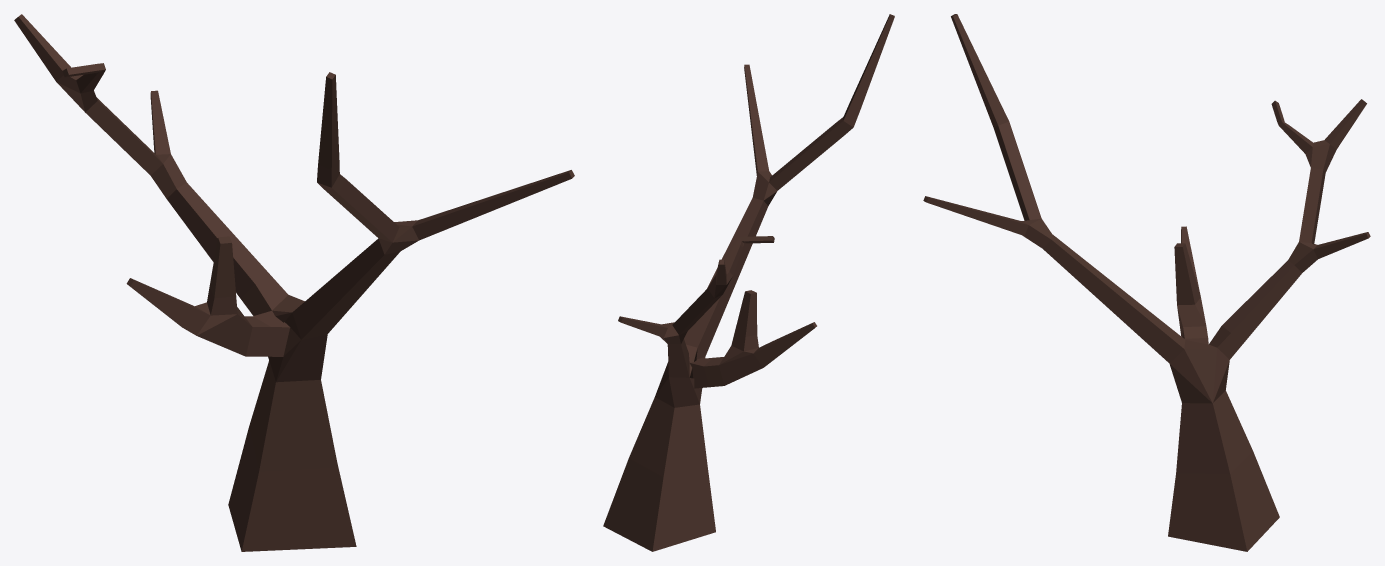
The model's file is New_Tree_6_0.fbx.
3 renders of one model, left to right at view 1: azimuth 30°, elevation 25°; view 2: azimuth 150°, elevation 25°; view 3: azimuth 270°, elevation 25°, orthographic. The views are drawn at different scales.
Parts seen in each view (by area): view 1: Cube.012; view 2: Cube.012; view 3: Cube.012.
Boxes of the visible parts, bbox=[...] form: Cube.012: bbox=[14, 14, 574, 551]; Cube.012: bbox=[603, 14, 894, 551]; Cube.012: bbox=[923, 14, 1370, 551].
Size of the model in its own units: 140 by 302 by 264.
